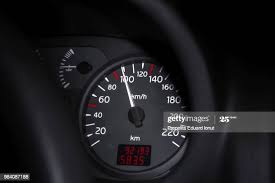Digital_Meter: (115, 144, 153, 168)
